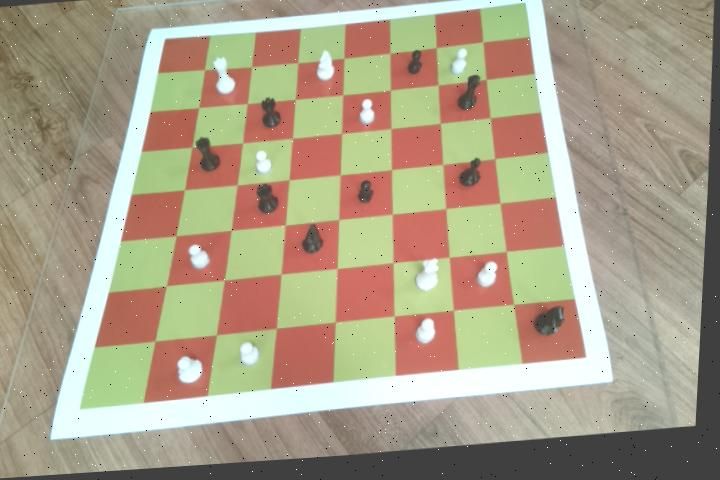chessboard-detect: (83, 9, 590, 409)
